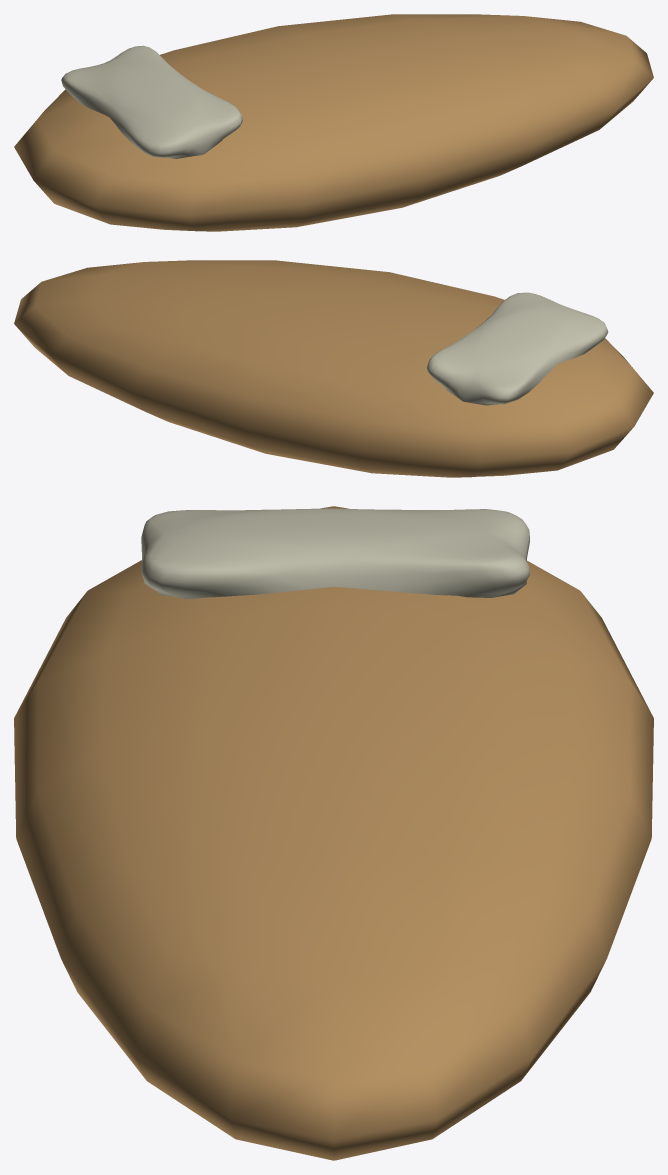
File: ORANGE SLEEPING BAG.fbx
3 views of the same model, one above another, from view 1: azimuth 30°, elevation 25°; view 2: azimuth 150°, elevation 25°; view 3: azimuth 270°, elevation 25° (orthographic). The views are drawn at different scales.
Parts seen in each view (by area): view 1: pCube6, pCube5; view 2: pCube6, pCube5; view 3: pCube6, pCube5.
Boxes of the visible parts, bbox=[...] form: pCube6: bbox=[14, 14, 653, 231]; pCube5: bbox=[61, 45, 242, 158]; pCube6: bbox=[14, 260, 653, 477]; pCube5: bbox=[427, 292, 608, 405]; pCube6: bbox=[14, 506, 653, 1160]; pCube5: bbox=[141, 508, 529, 598].
Bounding box in the file's own units: 0.097 × 0.0211 × 0.0468.
